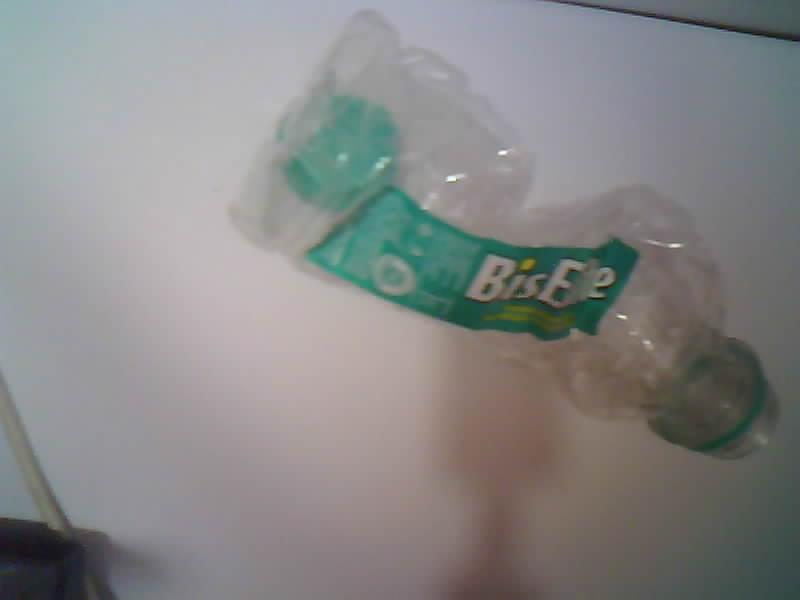non-biodegradable: (236, 13, 775, 457)
